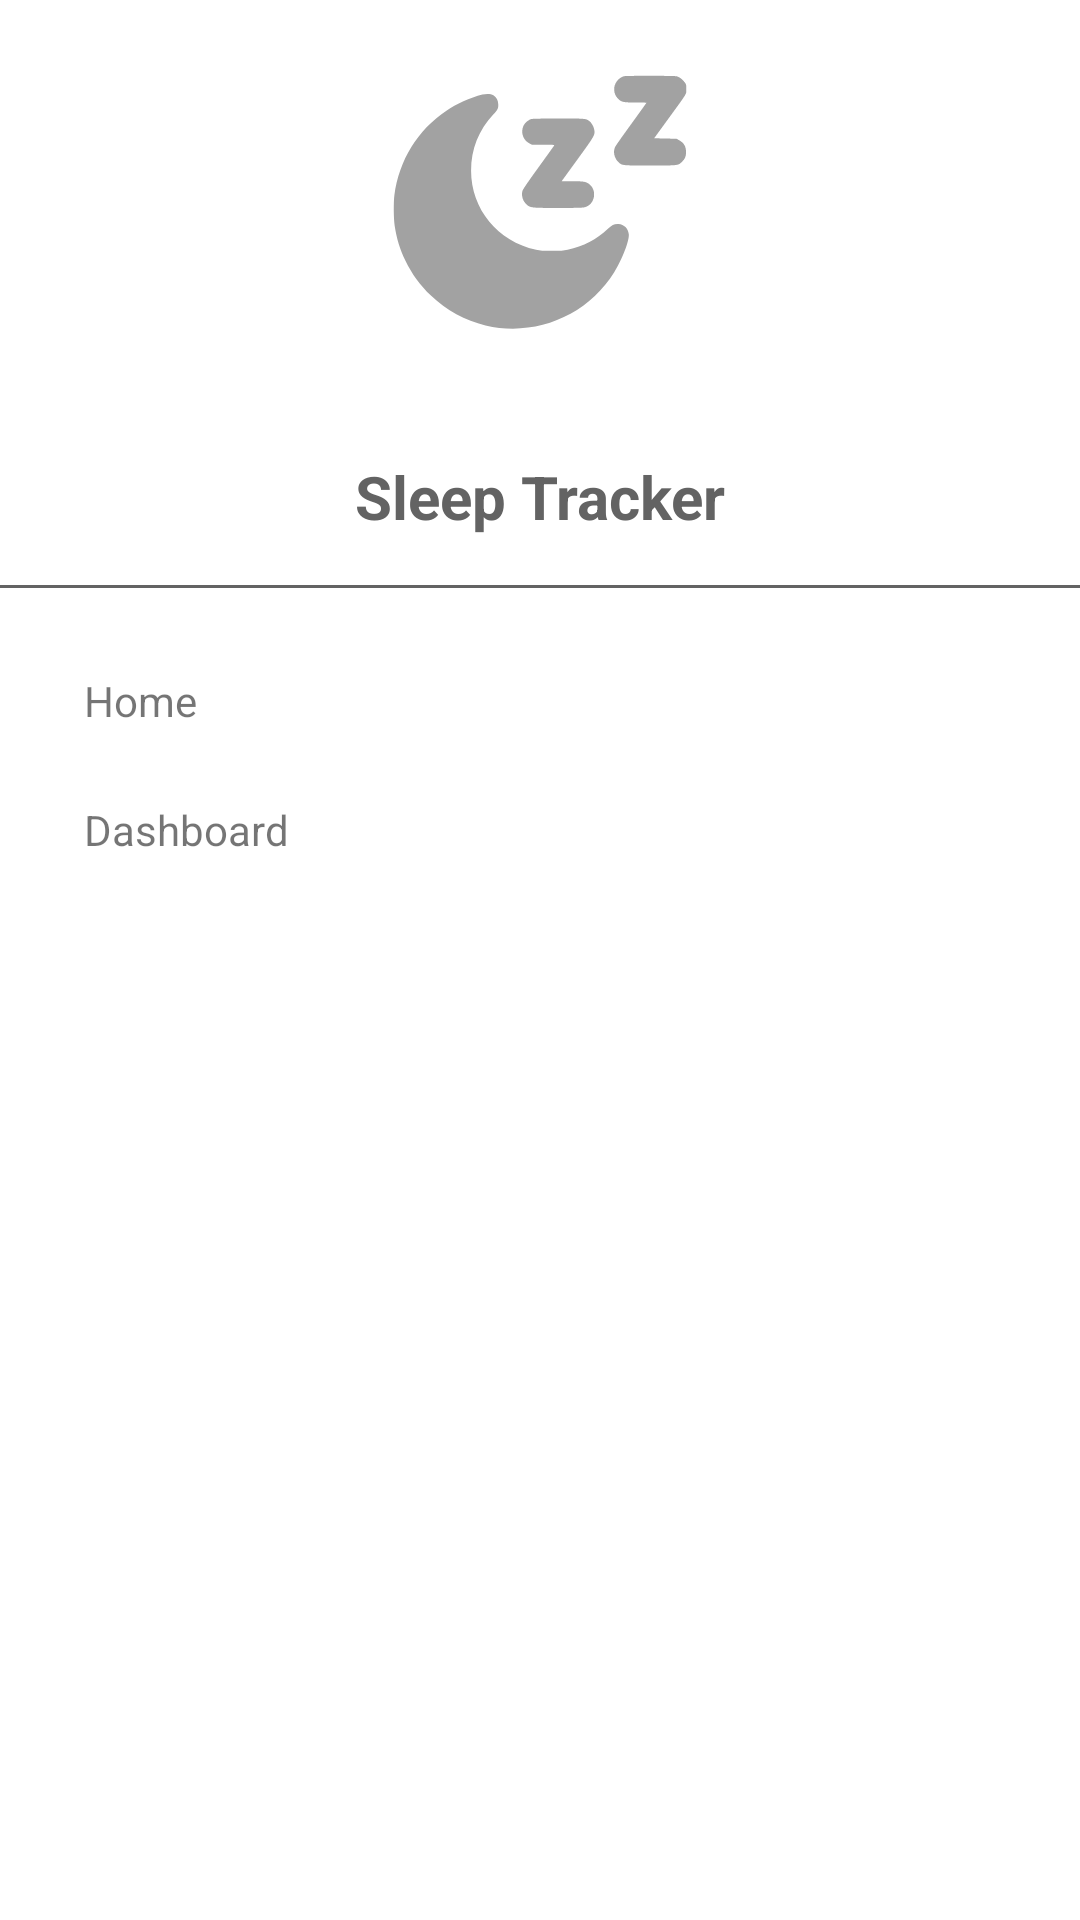

Icon bounding boxes for this 1080 × 1920 phone screenshot, format [left=x1, top=y1, right=x2, bottom=y2]:
sleeping: [left=394, top=76, right=686, bottom=329]
